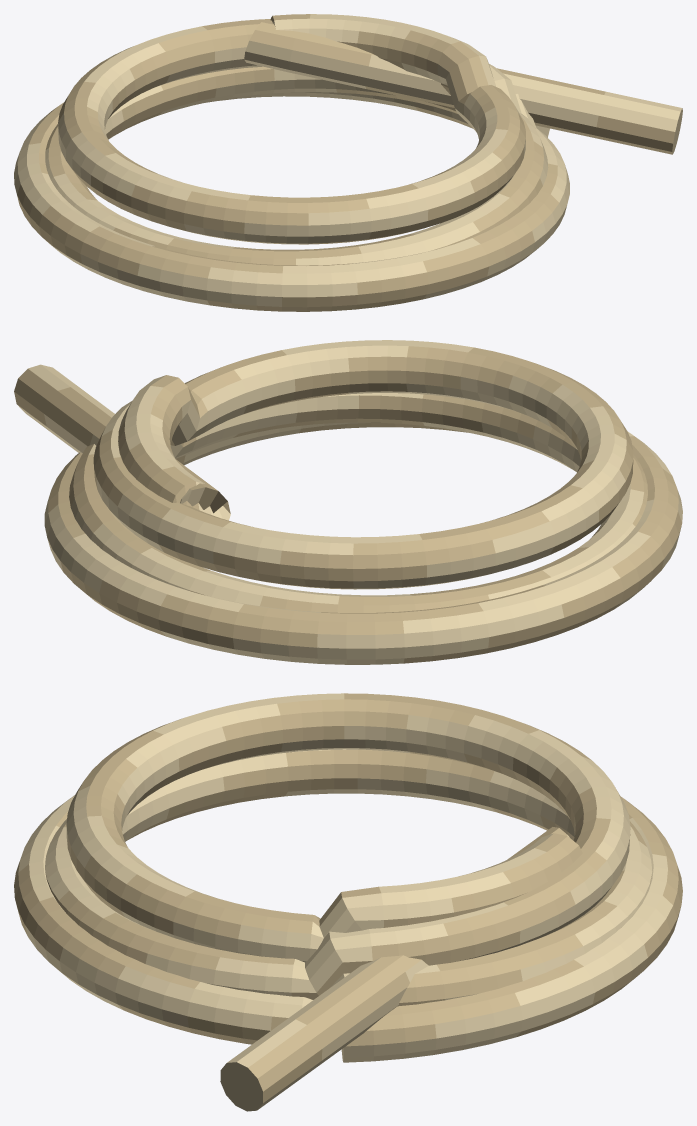
Rendered from rope_coil.glb.
3 views of the same model, one above another, from view 1: azimuth 30°, elevation 25°; view 2: azimuth 150°, elevation 25°; view 3: azimuth 270°, elevation 25° (orthographic). The views are drawn at different scales.
Visible parts, largest first — view 1: rope_coil; view 2: rope_coil; view 3: rope_coil.
Part boxes in pixels (x1,y1,x2,y2): rope_coil: [14, 14, 682, 311]; rope_coil: [14, 340, 682, 664]; rope_coil: [14, 693, 682, 1111].
Size of the model in its own units: 0.6904 by 0.1284 by 0.5661.
